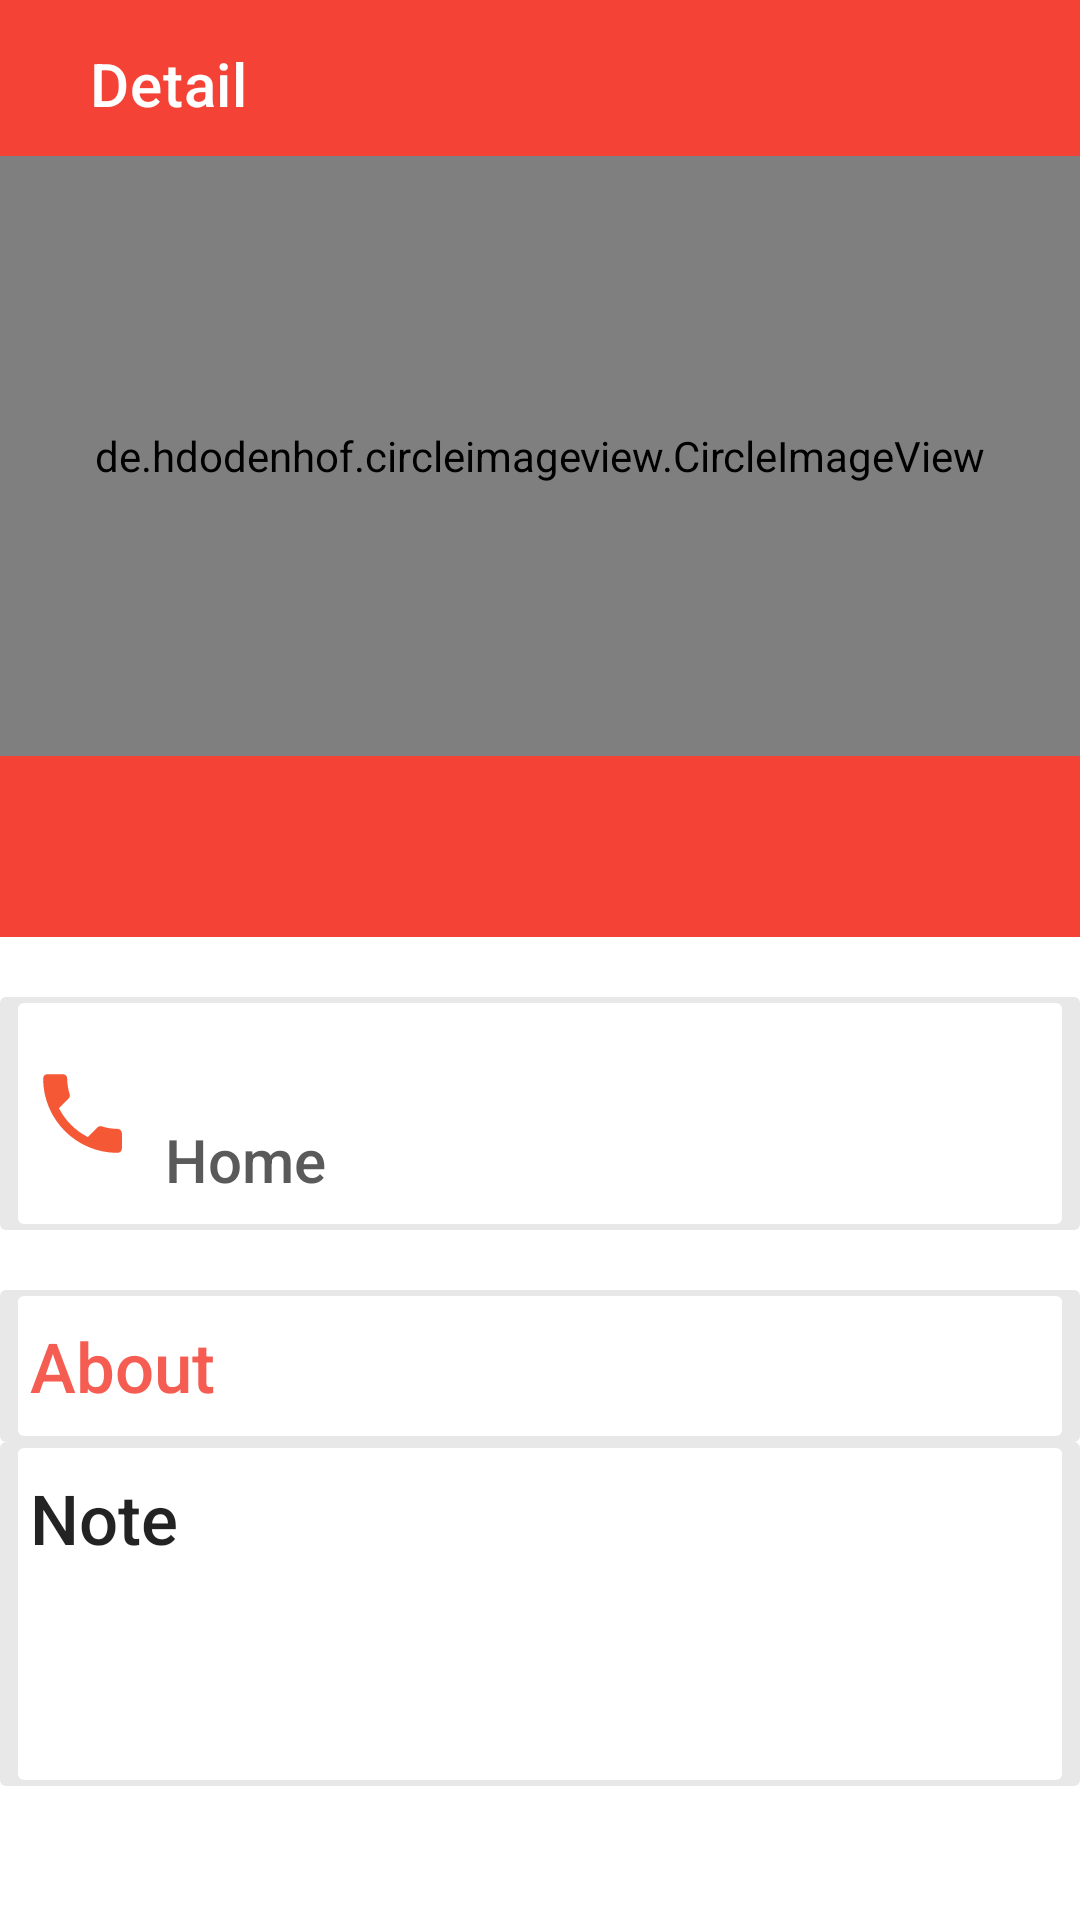

Where to tap for icons on this 1080x1920 app screen, as [x,y]:
phone or: [82,1113]
